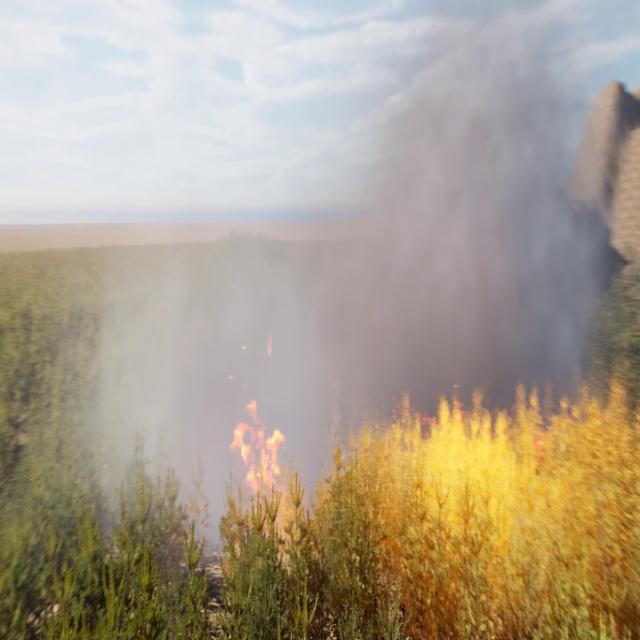fire: (376, 384, 637, 639), (228, 393, 298, 521)
smoke: (42, 0, 640, 536)
